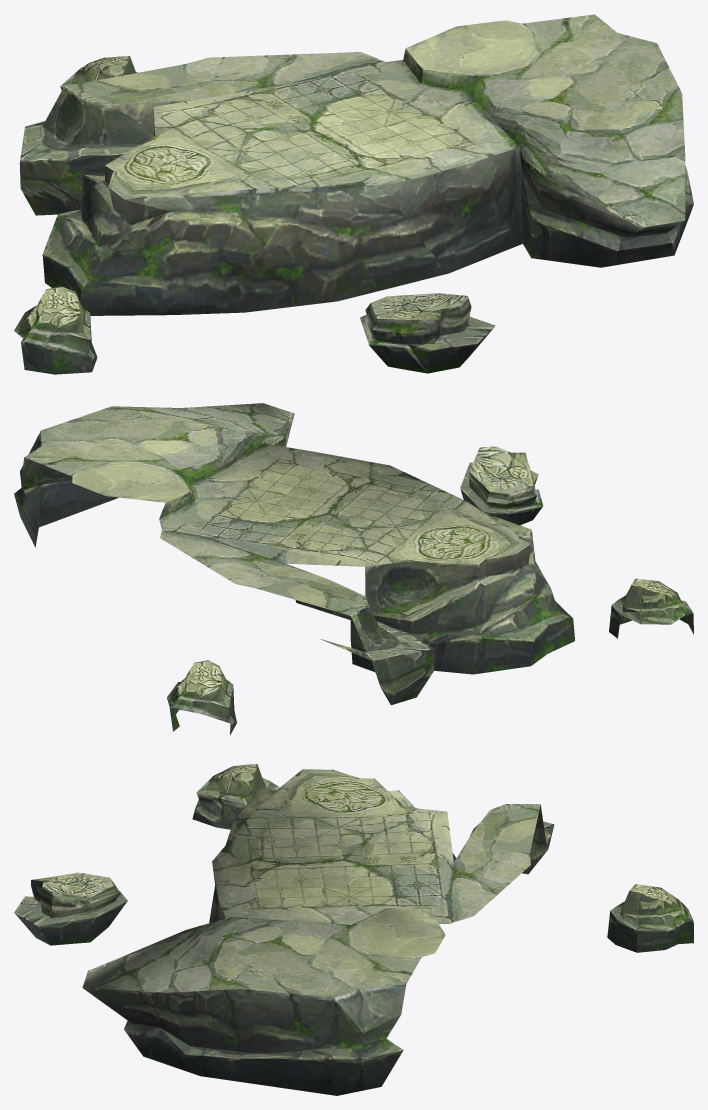
Rendered from 1004_Item_qitai_1.FBX.
3 renders of one model, top to bottom at view 1: azimuth 30°, elevation 25°; view 2: azimuth 150°, elevation 25°; view 3: azimuth 270°, elevation 25°, orthographic. The views are drawn at different scales.
Visible parts, largest first — view 1: 1004_Item_qitai_1; view 2: 1004_Item_qitai_1; view 3: 1004_Item_qitai_1.
Part boxes in pixels (x1,y1,x2,y2): 1004_Item_qitai_1: [14, 14, 693, 374]; 1004_Item_qitai_1: [14, 403, 693, 734]; 1004_Item_qitai_1: [14, 764, 693, 1095].
Size of the model in its own units: 499 by 470 by 78.86.
